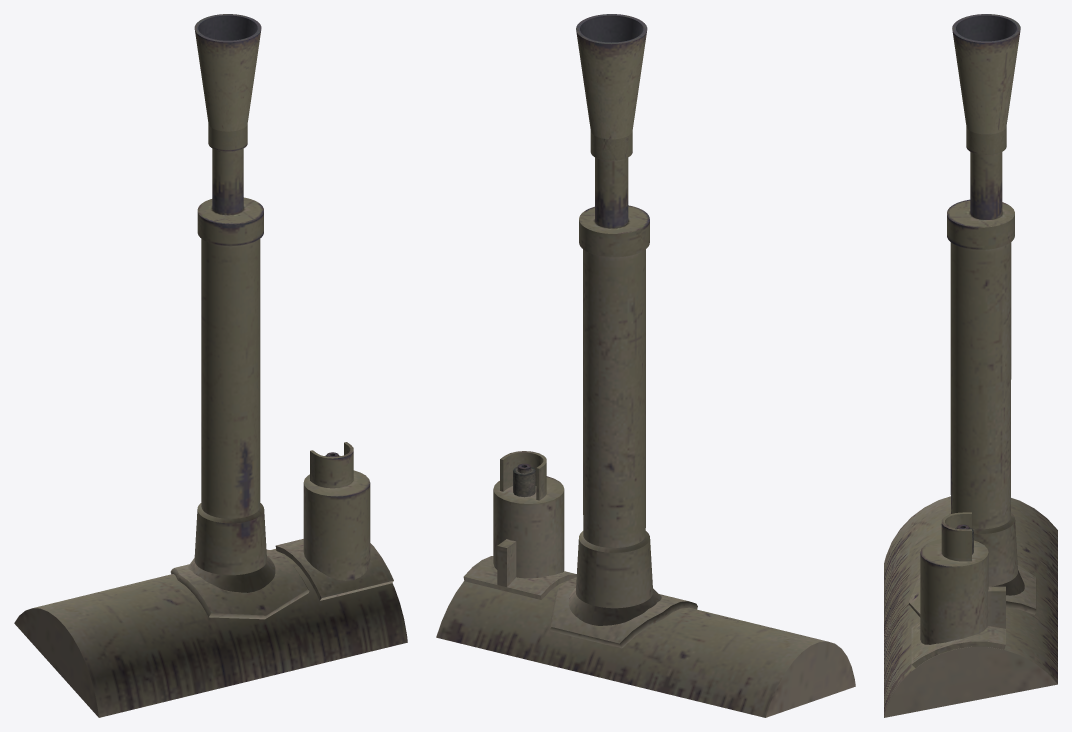
The model's file is Gun_02.glb.
3 views of the same model, side by side, from view 1: azimuth 30°, elevation 25°; view 2: azimuth 150°, elevation 25°; view 3: azimuth 270°, elevation 25° (orthographic). The views are drawn at different scales.
Parts seen in each view (by area): view 1: set_0_group_0; view 2: set_0_group_0; view 3: set_0_group_0.
Part boxes in pixels (x1=…): set_0_group_0: x1=14, y1=14, x2=407, y2=717; set_0_group_0: x1=436, y1=14, x2=855, y2=717; set_0_group_0: x1=884, y1=14, x2=1057, y2=717.
Size of the model in its own units: 0.8356 by 1.58 by 0.3975.
1 material, 1 textured.
